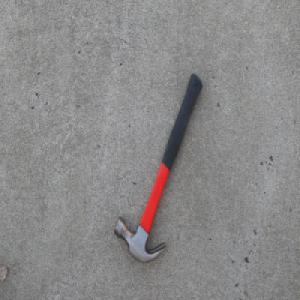Hammer: (113, 72, 203, 263)
